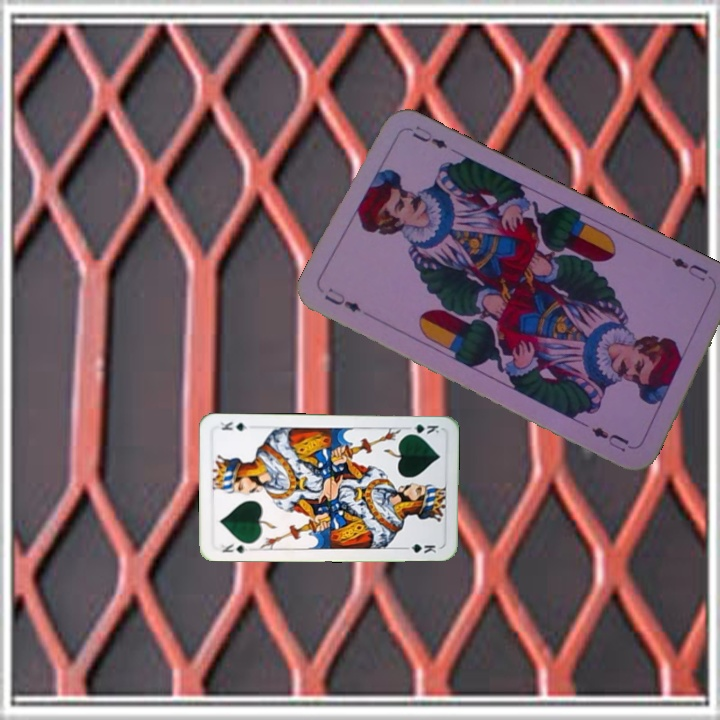EU: (320, 283, 364, 315), (667, 253, 711, 284)
GK: (402, 420, 441, 437), (218, 539, 250, 556)
